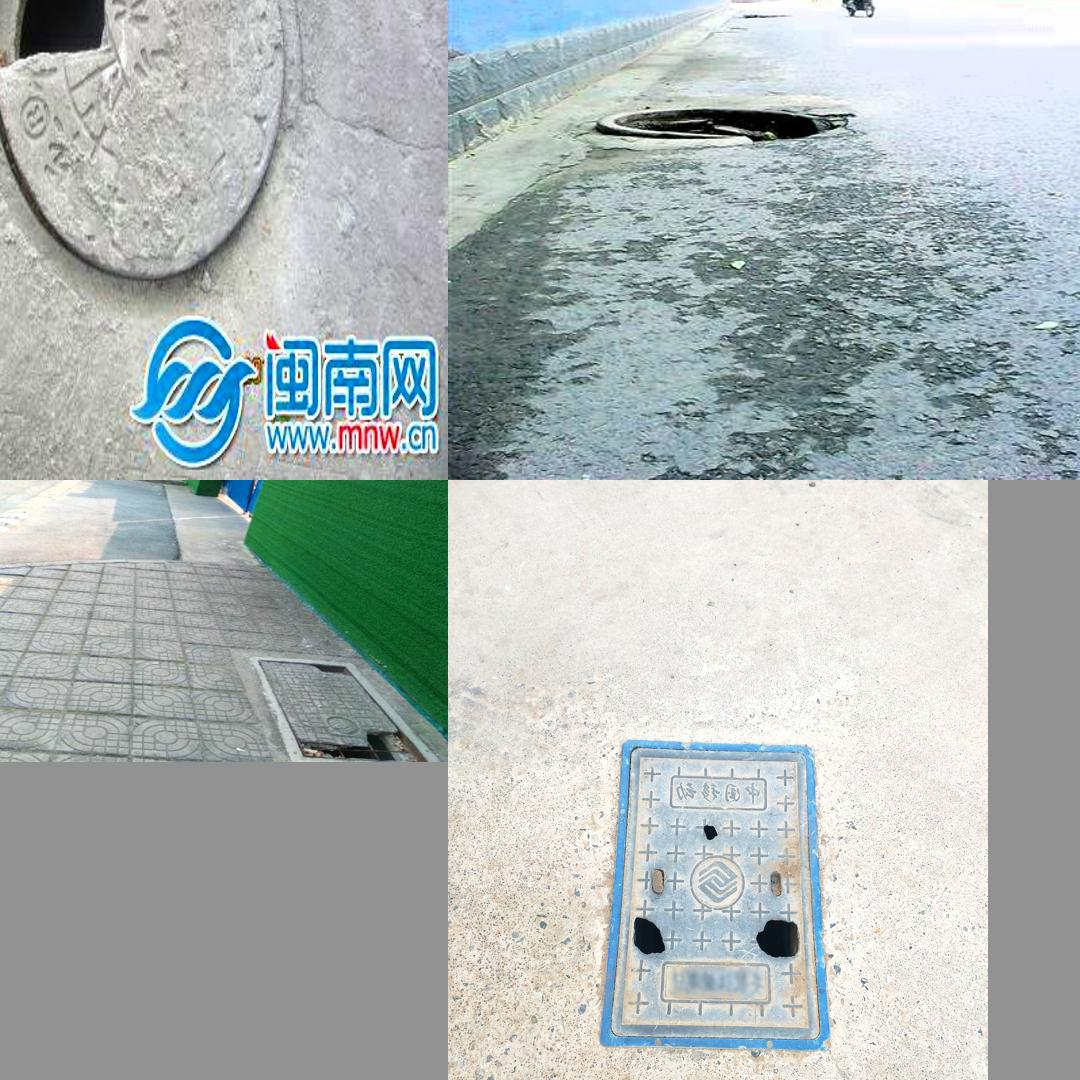broke: (0, 0, 305, 307), (597, 739, 828, 1050), (570, 85, 898, 170), (249, 656, 442, 762)
